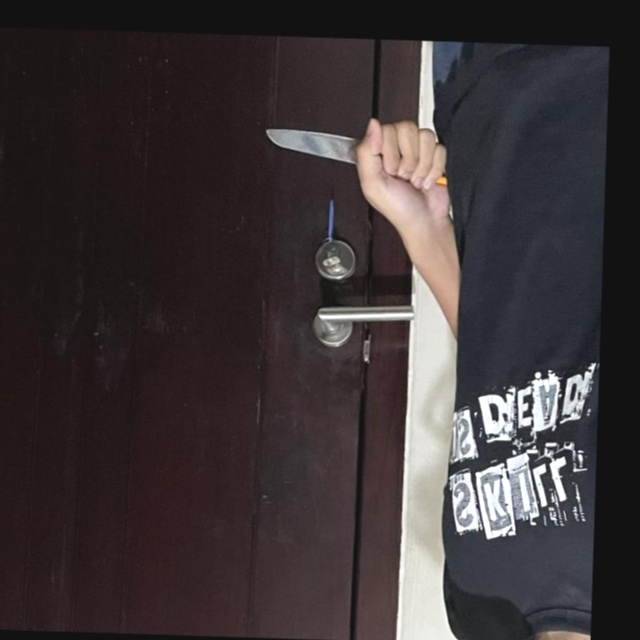Sharp-Object: (261, 126, 371, 166)
